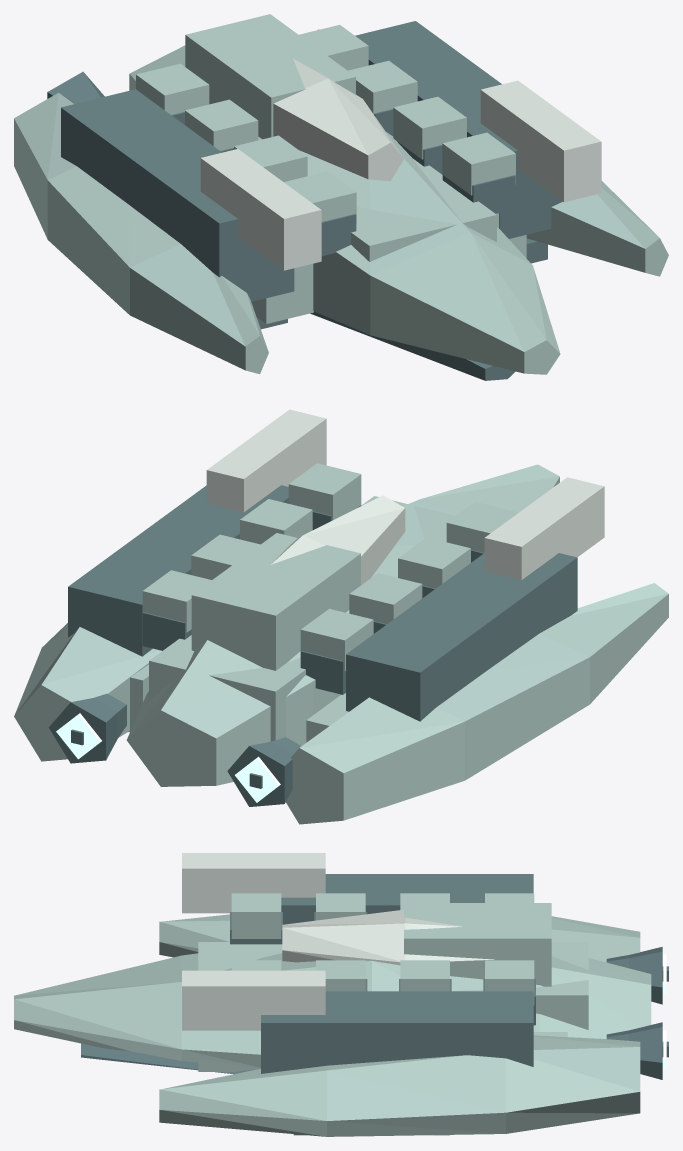
3 views of the same model, one above another, from view 1: azimuth 30°, elevation 25°; view 2: azimuth 150°, elevation 25°; view 3: azimuth 270°, elevation 25° (orthographic). The views are drawn at different scales.
Bounding box in the file's own units: 17.64 × 6.74 × 24.84.
